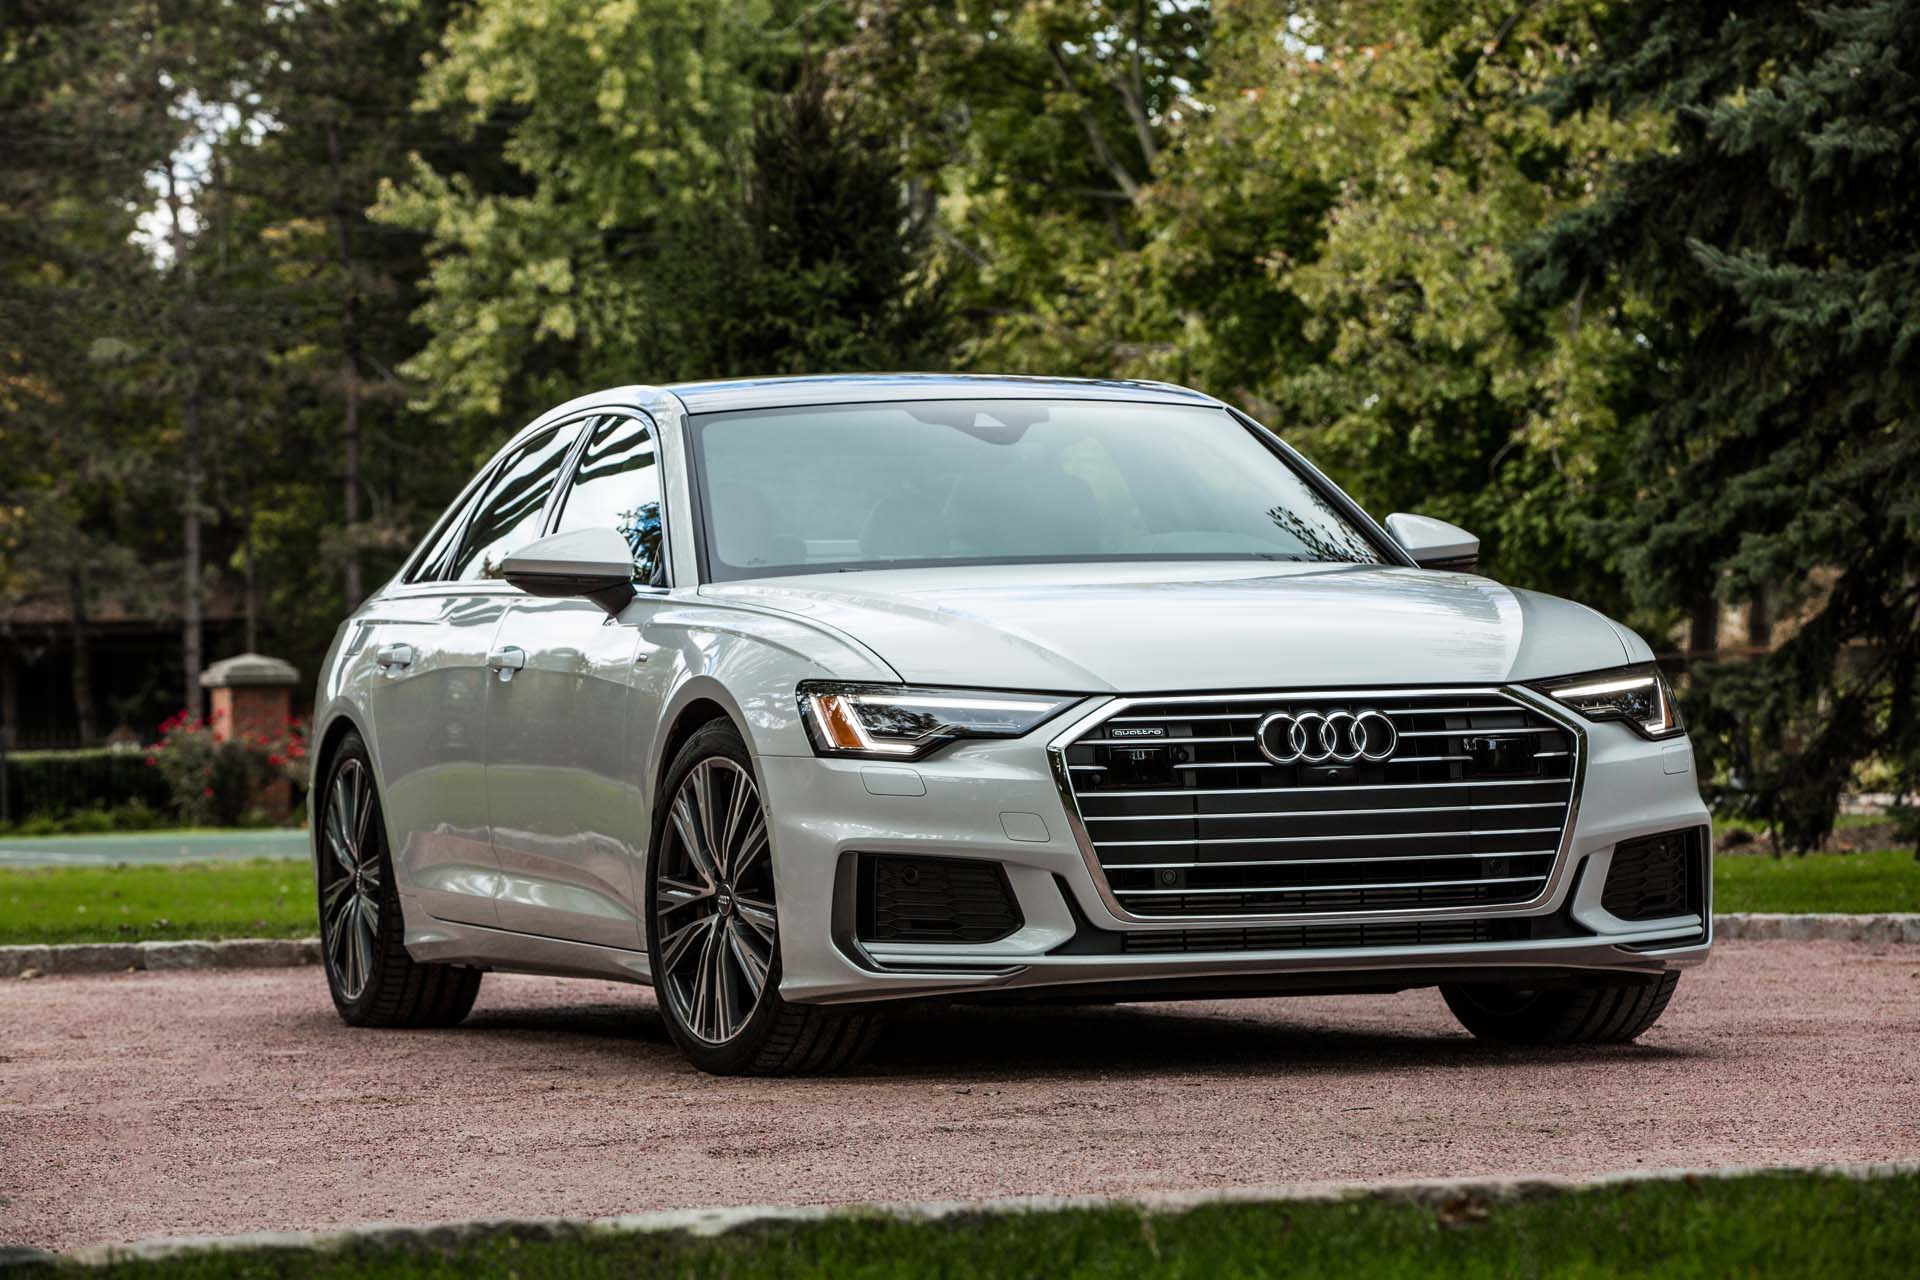Audi A6 2019: (306, 370, 1714, 1081)
